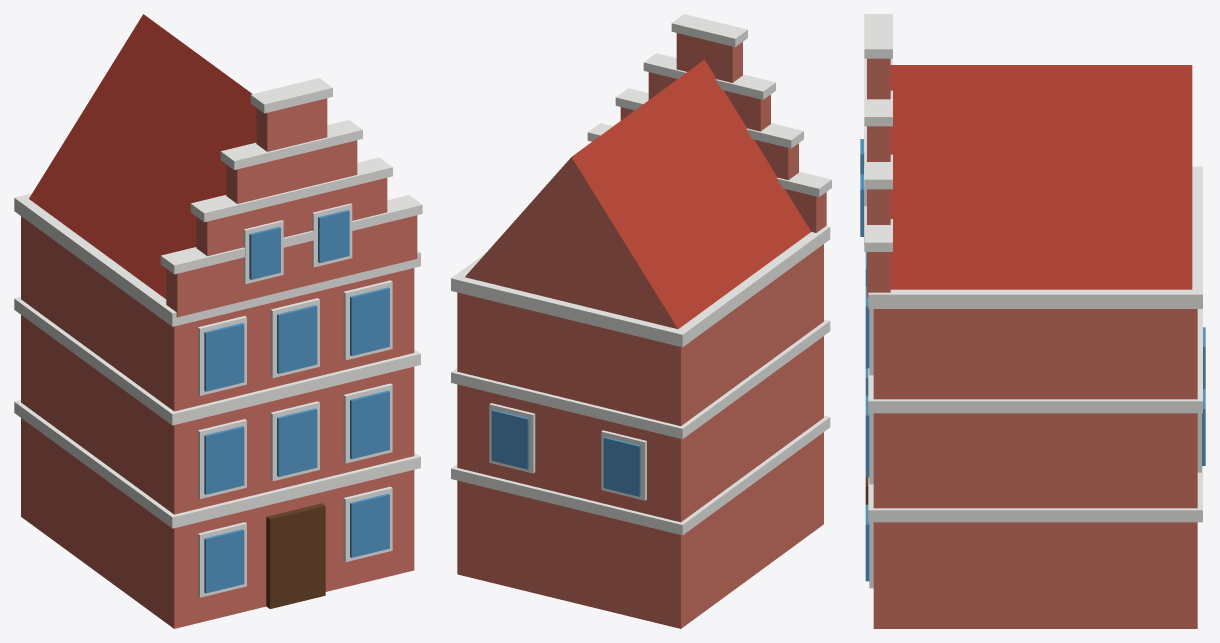
The model's file is 14_stepped_gable_2.obj.
3 renders of one model, left to right at view 1: azimuth 30°, elevation 25°; view 2: azimuth 150°, elevation 25°; view 3: azimuth 270°, elevation 25°, orthographic. The views are drawn at different scales.
Visible parts, largest first — view 1: 14_stepped_gable_2; view 2: 14_stepped_gable_2; view 3: 14_stepped_gable_2.
Boxes of the visible parts, box(x1,y1,x2,y2) form: 14_stepped_gable_2: box(14, 14, 422, 628); 14_stepped_gable_2: box(451, 14, 831, 628); 14_stepped_gable_2: box(860, 14, 1205, 628).
Size of the model in its own units: 1.16 by 2.26 by 1.32.
